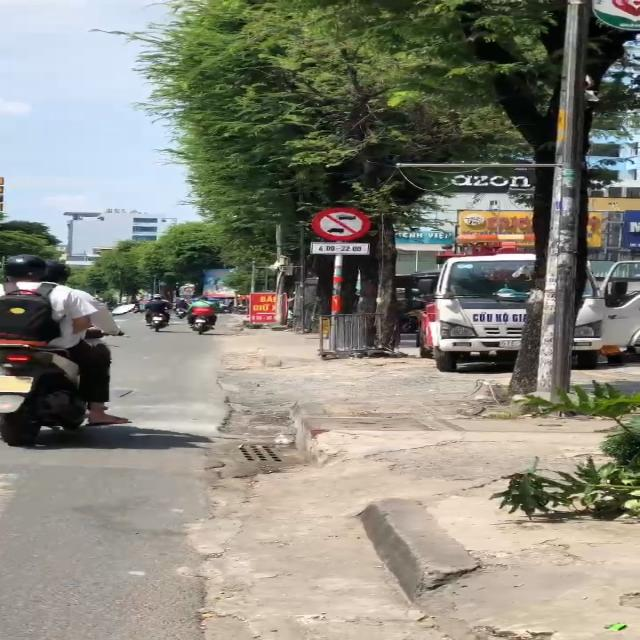Bien bao cam xe oto khach va xe oto tai: (305, 205, 374, 242)
